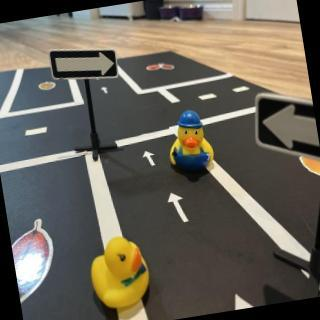duck_regular: (86, 233, 156, 320)
duck_specialty: (164, 109, 219, 183)
road_oneway: (166, 189, 193, 229), (229, 289, 261, 312), (141, 147, 159, 173), (100, 86, 113, 97)
sign_oneway_left: (248, 84, 320, 174)
sign_oneway_right: (47, 39, 122, 91)
